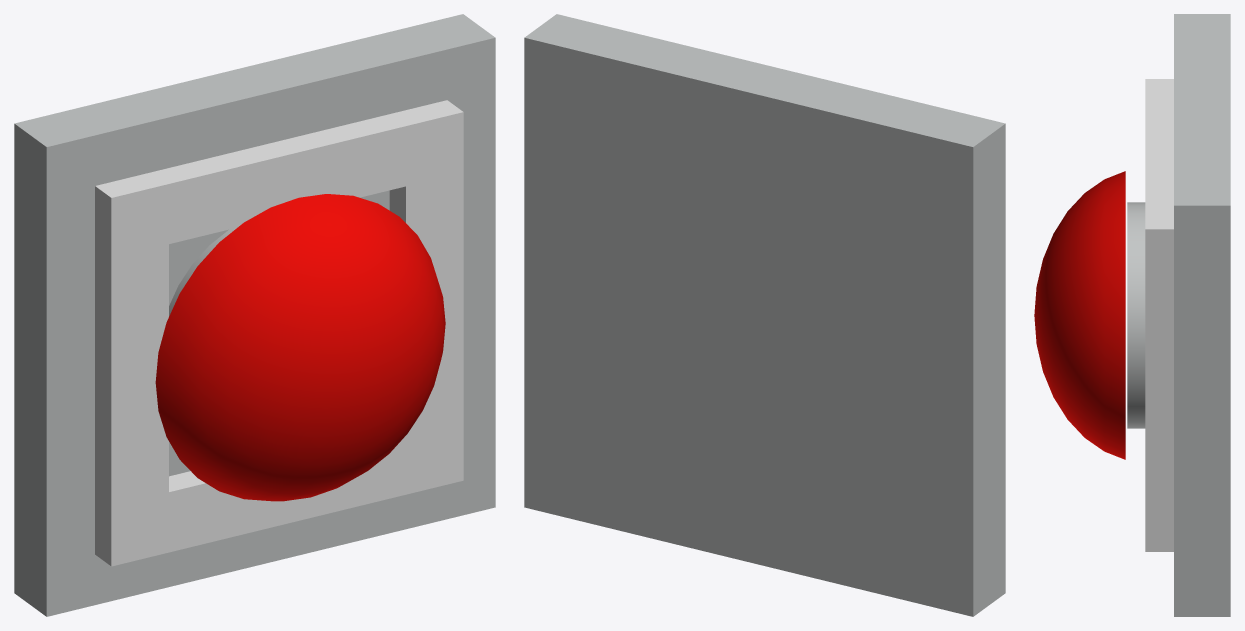
Rendered from czerwony przycisk.fbx.
The picture shows the model from 3 angles, left to right: view 1: azimuth 30°, elevation 25°; view 2: azimuth 150°, elevation 25°; view 3: azimuth 270°, elevation 25°; orthographic projection. The views are drawn at different scales.
Parts seen in each view (by area): view 1: Kostka, Kostka.001, Kula, Kostka.002; view 2: Kostka; view 3: Kostka, Kula, Kostka.001, Walec.
Boxes of the visible parts, x1,y1,x2,y2 form: Kostka: (14,14,495,616); Kostka.001: (95,100,463,566); Kula: (155,194,445,501); Kostka.002: (169,190,389,476); Kostka: (524,14,1005,616); Kostka: (1174,14,1230,616); Kula: (1034,171,1125,459); Kostka.001: (1145,79,1173,551); Walec: (1127,202,1145,428).
Bounding box in the file's own units: 400 × 400 × 173.
